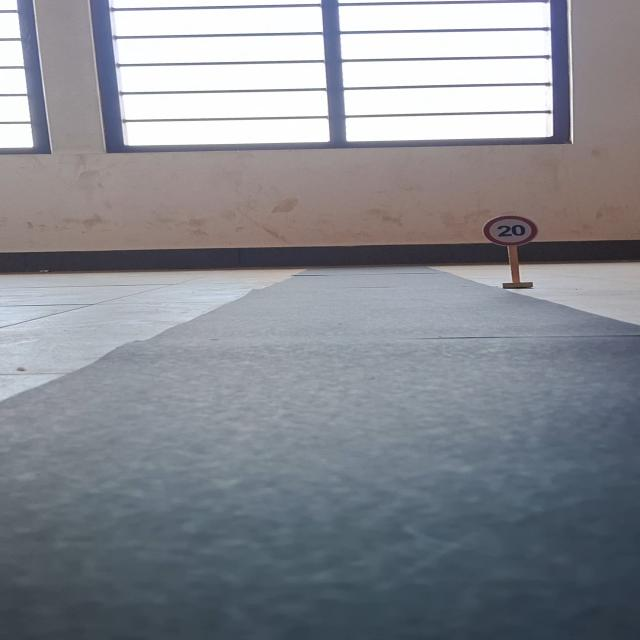Speed20: (479, 211, 542, 249)
